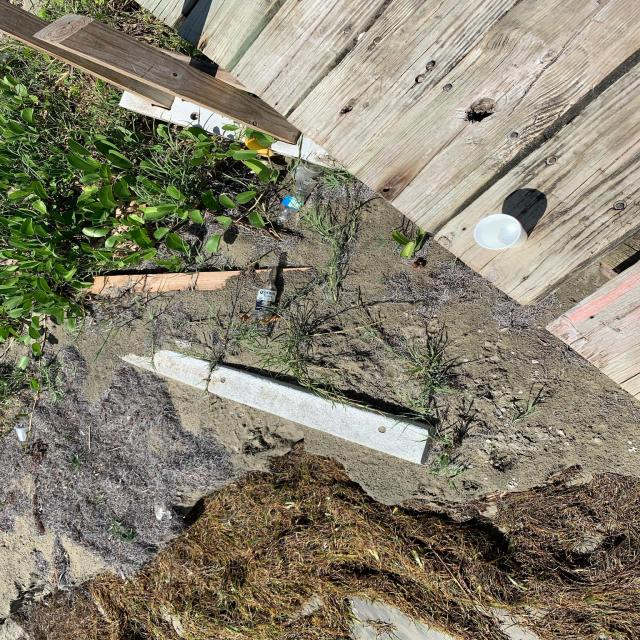litter: (474, 214, 528, 249), (277, 177, 319, 222), (254, 262, 280, 318), (294, 163, 325, 180), (14, 423, 30, 441)
